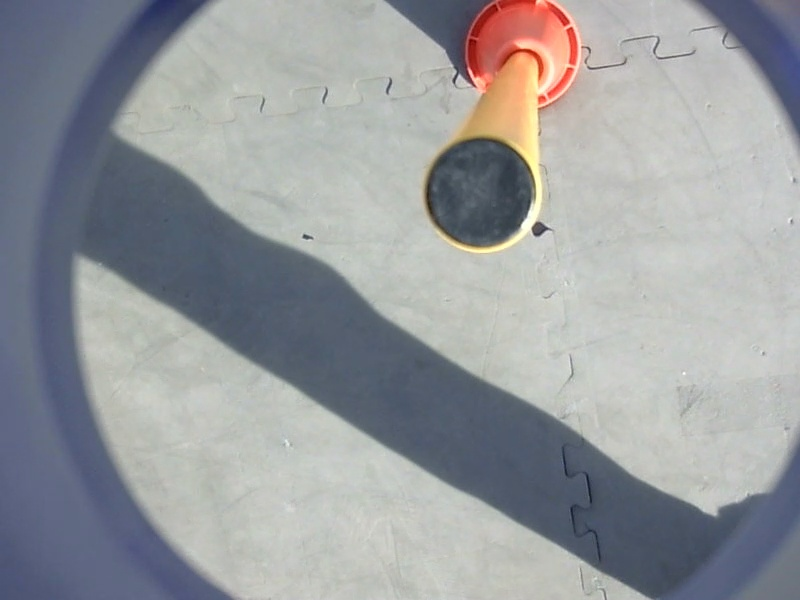tip: (415, 123, 555, 260)
